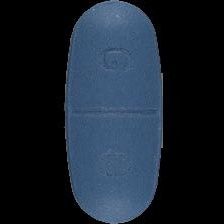61919-183: (0, 0, 224, 224)
